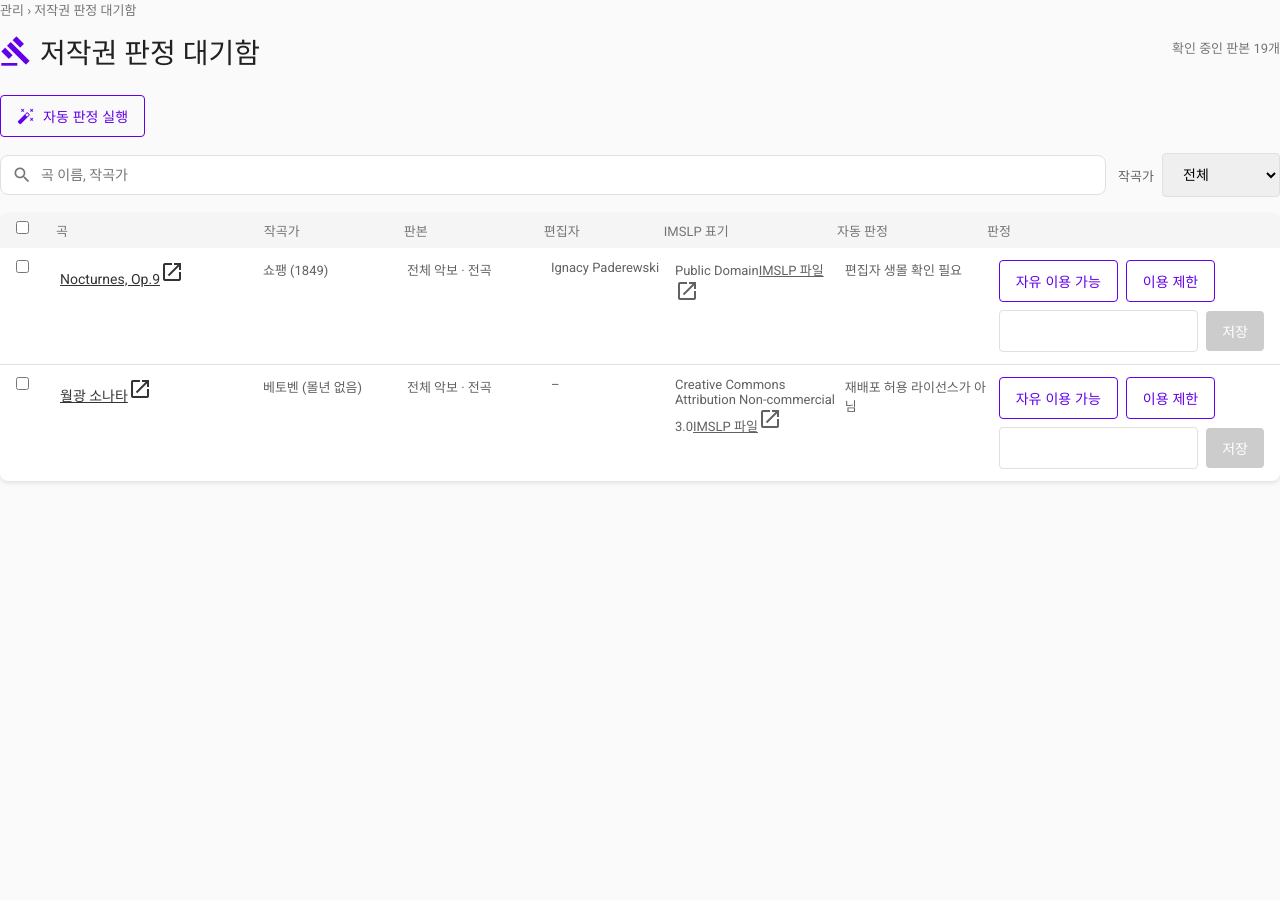
Scenario: CopyrightPendingPage — 자동 판정 실행 (02 §5-11) › 취소하면 실행하지 않는다
Click the button "자동 판정 실행".
click(73, 116)  # box x1=0 y1=95 x2=145 y2=137
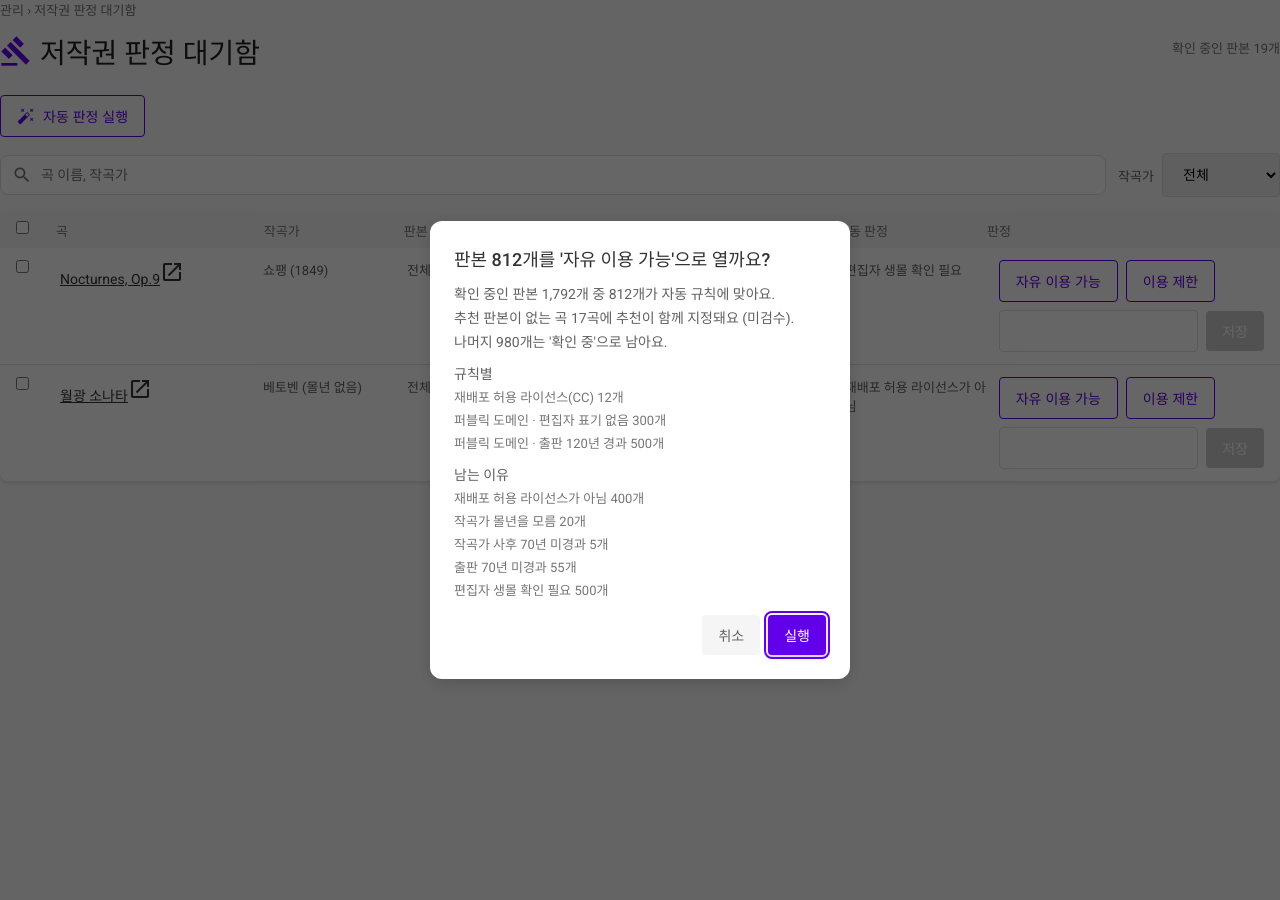
Expected: the dialog is shown, x1=430 y1=221 x2=850 y2=679
Click the button "취소".
click(731, 635)  # box x1=702 y1=615 x2=760 y2=655
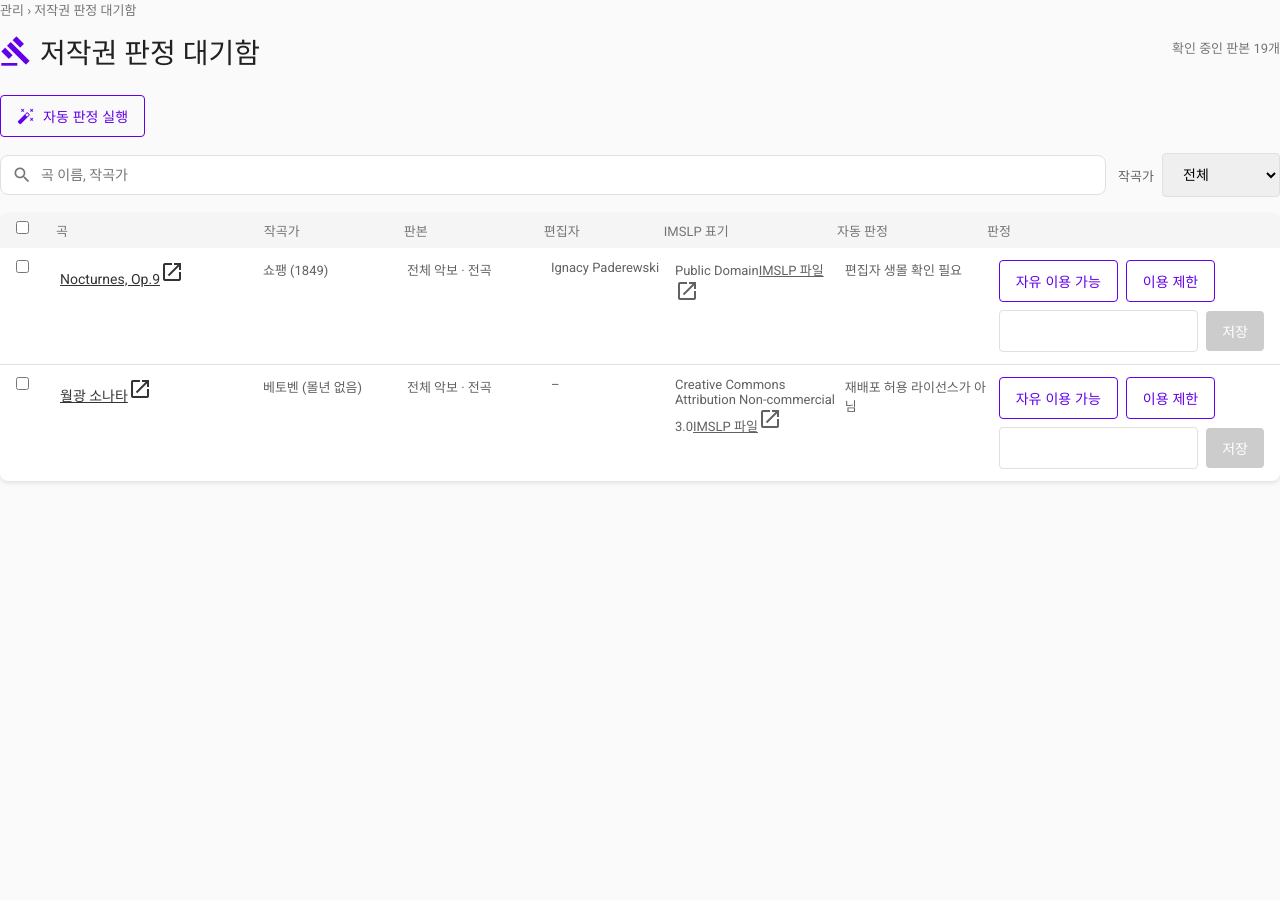
Expected: the dialog is gone
